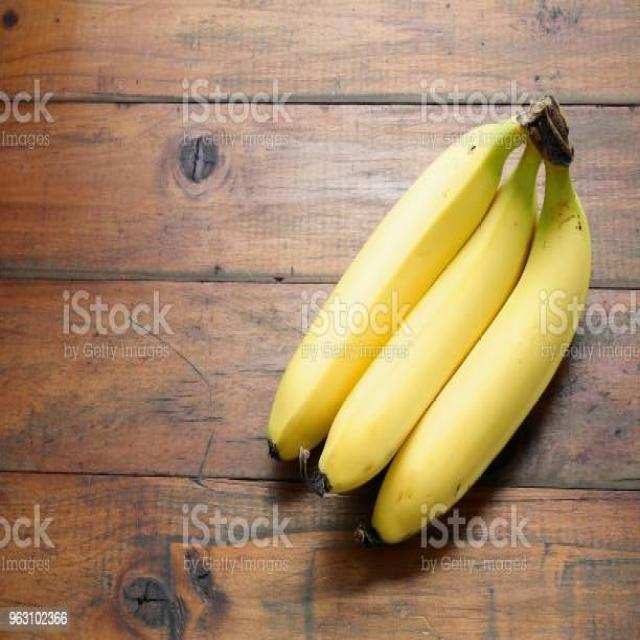banana: (263, 80, 597, 554)
